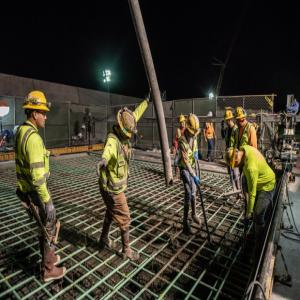white: (208, 112, 214, 120)
yellow: (26, 90, 49, 129), (118, 110, 137, 142), (225, 146, 242, 171), (186, 114, 201, 139), (236, 107, 247, 127), (225, 111, 234, 127), (180, 114, 187, 129)
